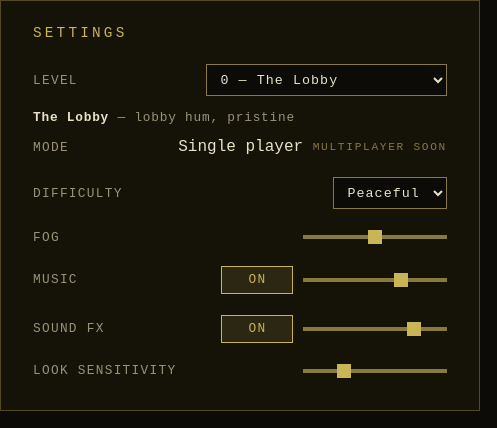
Test: SettingsPanel › toggles music and disables its slider when off
Click the switch named "Music".
click(257, 280)  # box [221,266,293,294]
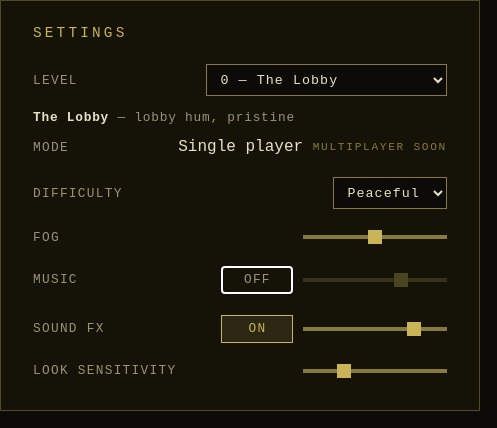
Expected: the slider named "Music volume" is disabled, [303,278,447,282]
